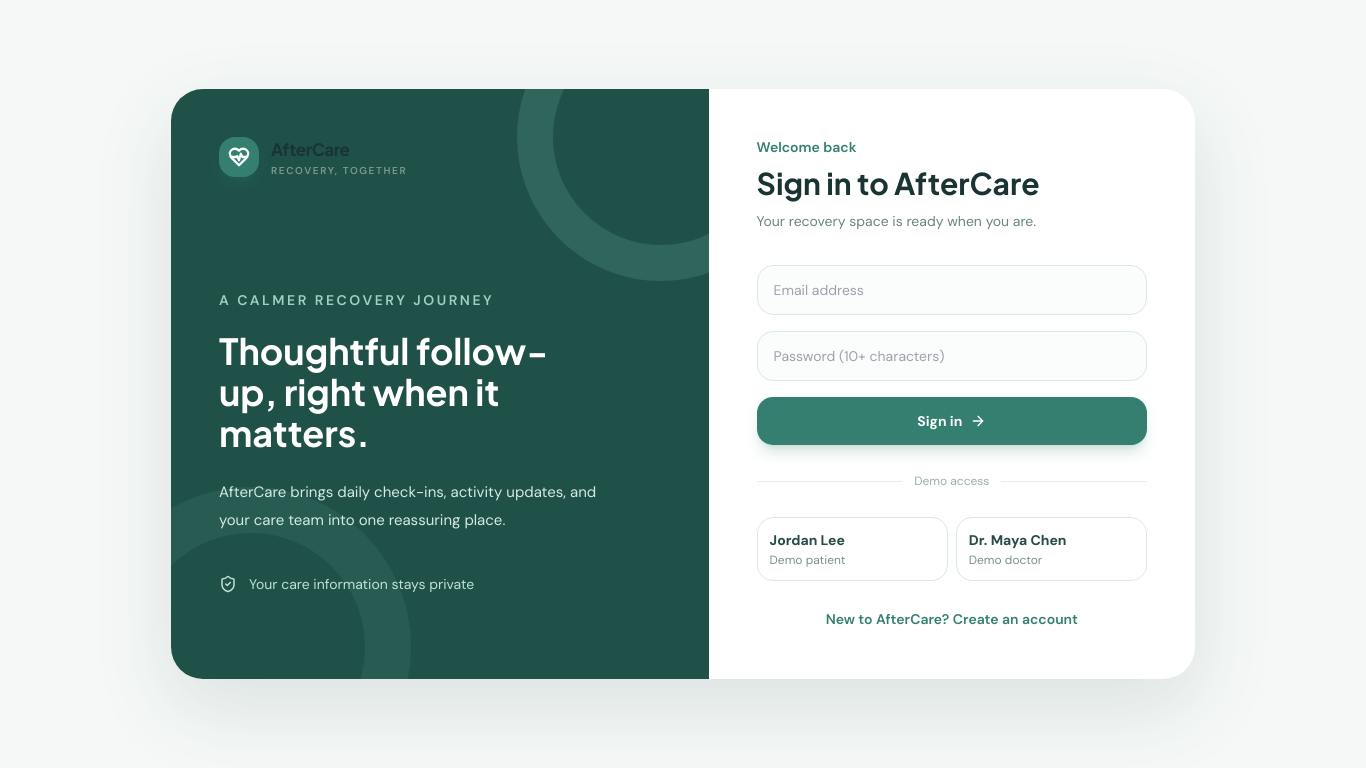
it: AuthScreen › shows demo error when demo login fails
Click the text "Jordan Lee" at (807, 540), box [770,531,845,549]
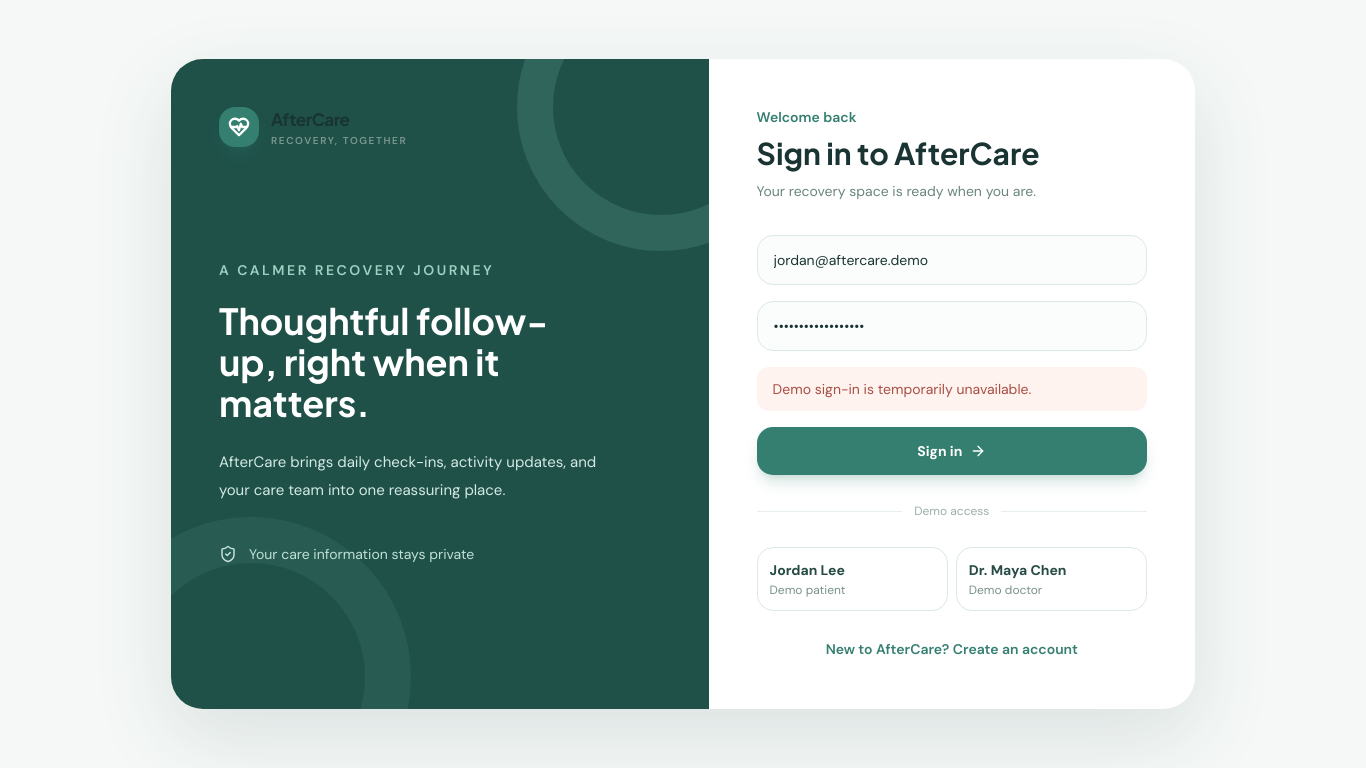
Expected: the text "Demo sign-in is temporarily unavailable." is shown, [757,367,1147,411]
